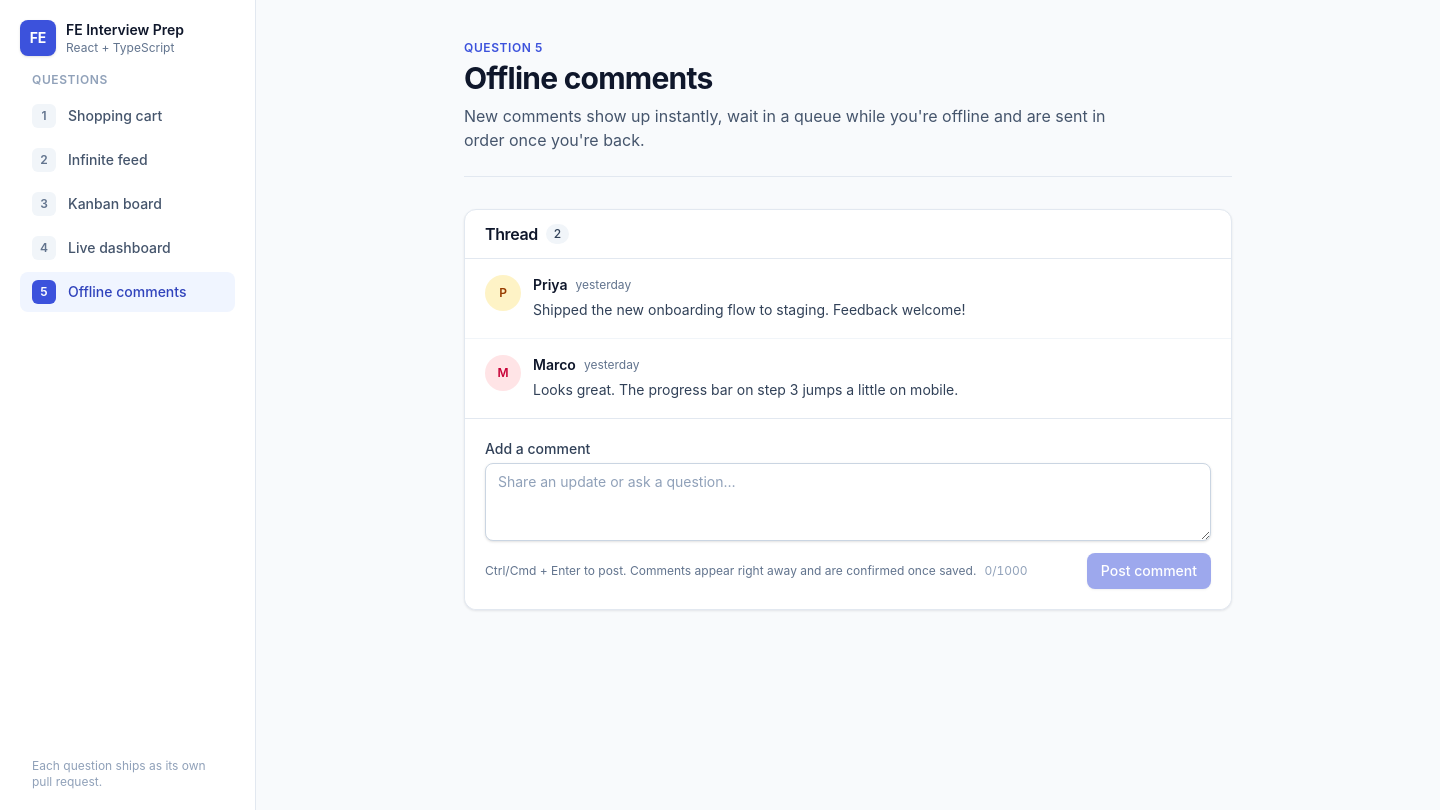
Test: discarding a failed comment removes it and lets the queue continue
Expected: the text "Shipped the new onboarding flow" is shown, [533,301,965,318]
Type "Typo" into the text box labelled "Add a comment" at (848, 502), box [485,462,1211,540]
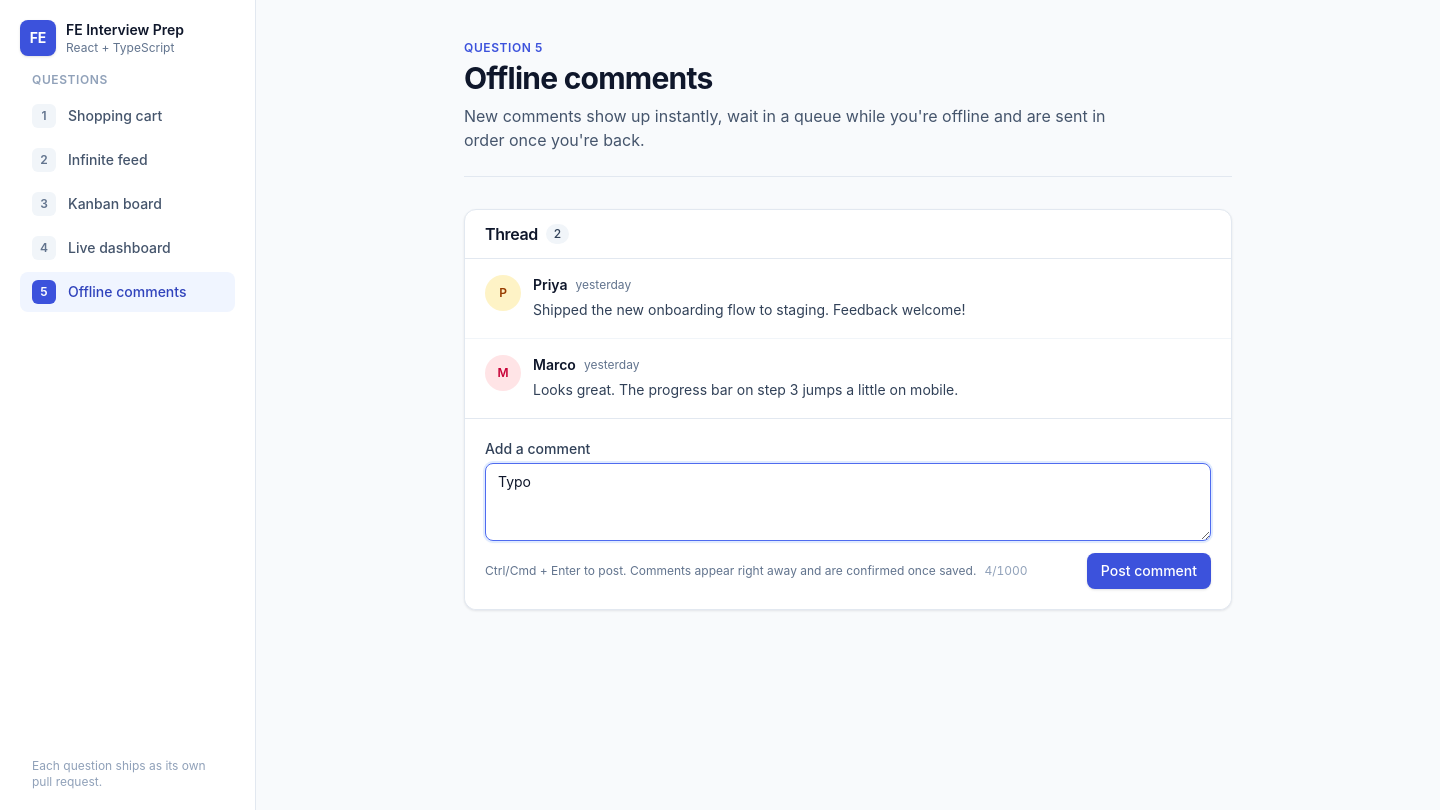
Click the button "Post comment" at (1149, 570), box [1087,552,1211,588]
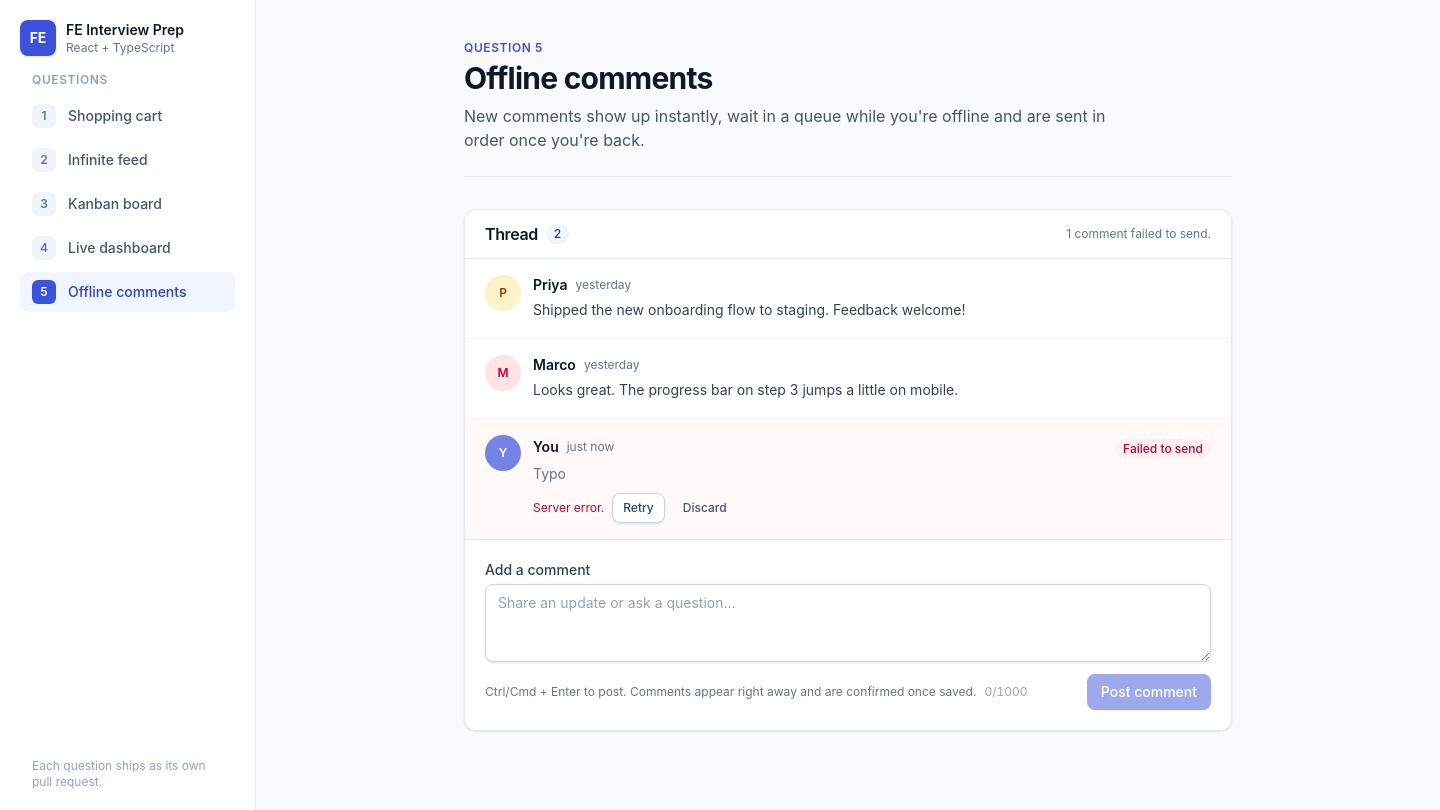
Now the text "Failed to send" is shown, box [1115,438,1211,458]
Type "Fixed" into the text box labelled "Add a comment" at (848, 623), box [485,584,1211,662]
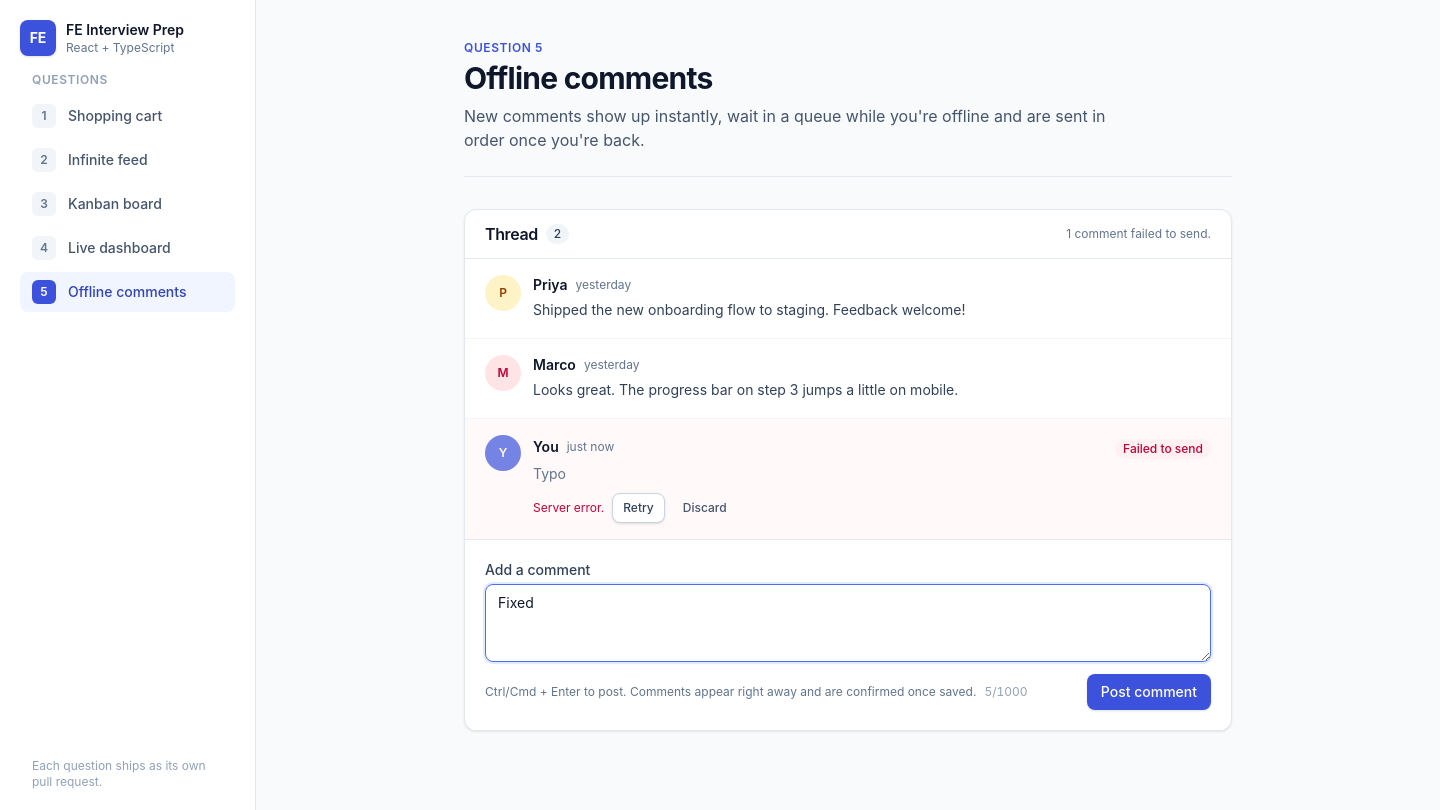
Click the button "Post comment" at (1149, 692), box [1087,674,1211,710]
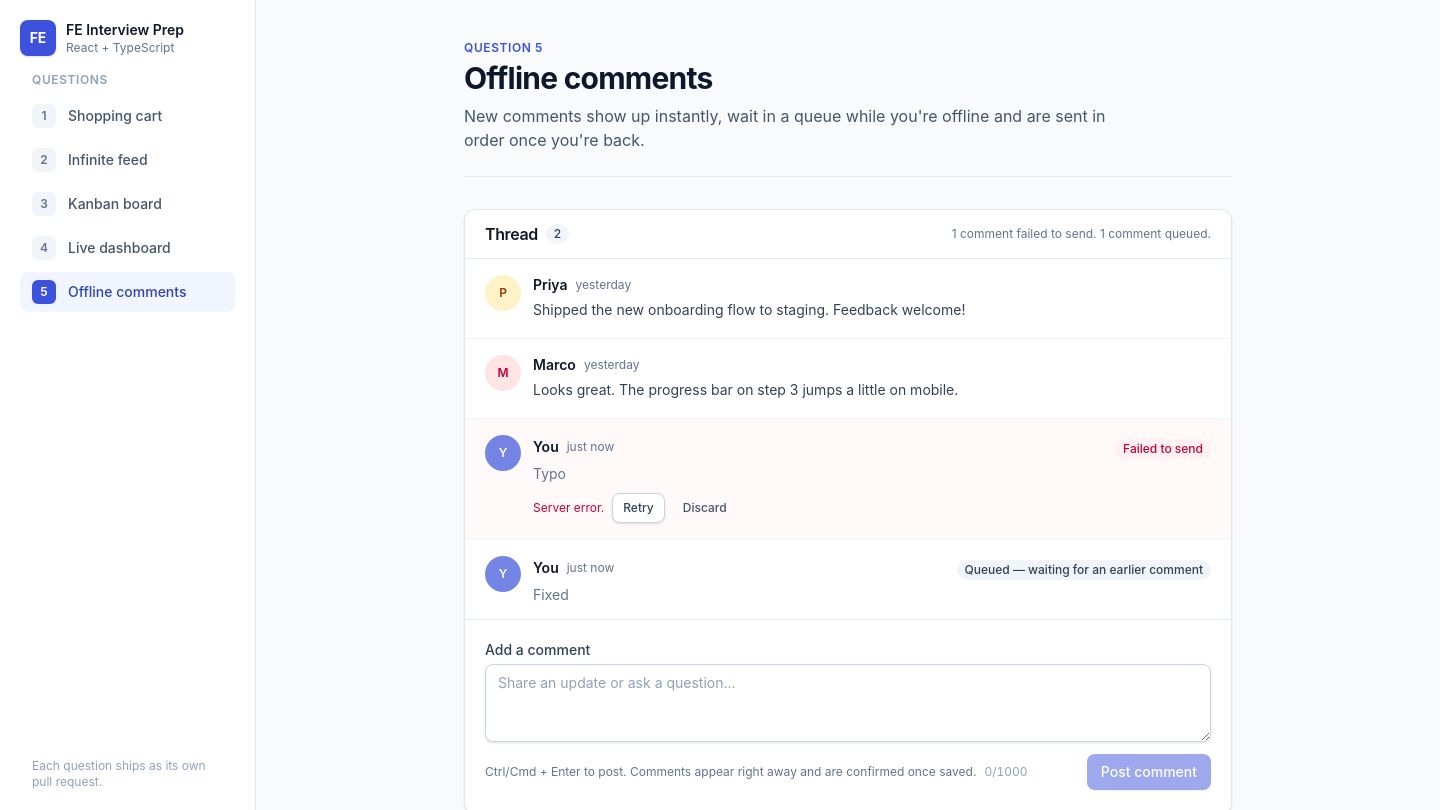
Click the button "Discard" at (705, 508), box [673,494,736,522]
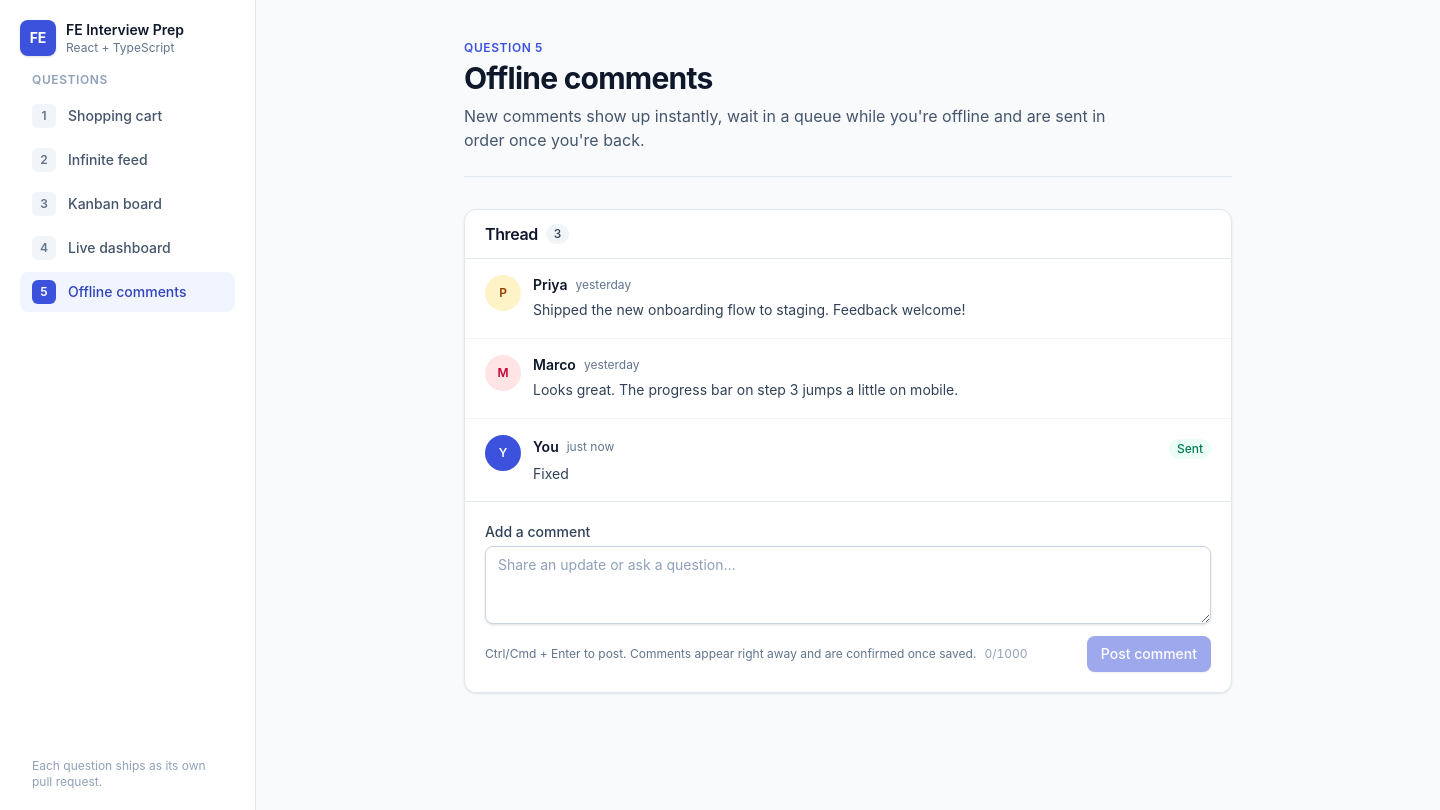
Now the text "Sent" is shown, box [1169,438,1211,458]
Now the text "Typo" is gone
